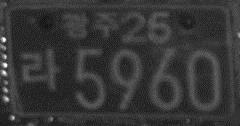0: (186, 49, 222, 111)
2: (121, 11, 148, 44)
5: (73, 47, 107, 109), (146, 11, 172, 46)
6: (148, 47, 184, 111)
9: (110, 48, 144, 111)
광주_O: (61, 10, 117, 41)
라: (20, 47, 61, 93)
